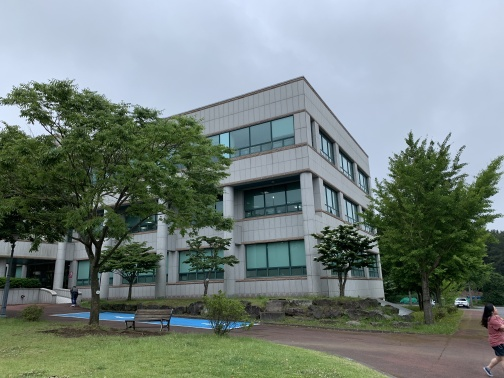Second Library: (71, 114, 377, 305), (185, 68, 381, 314)
